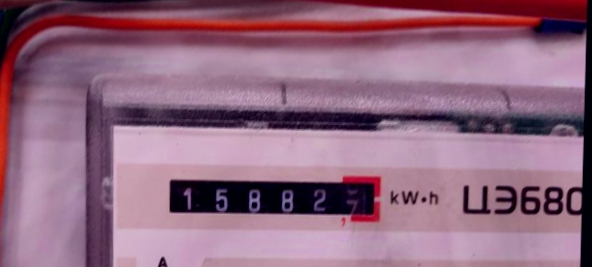1: (178, 183, 193, 211)
2: (309, 185, 326, 214)
5: (210, 184, 229, 212)
7: (341, 196, 358, 213)
8: (243, 185, 260, 214), (277, 185, 293, 214)
screen: (153, 162, 390, 230)
